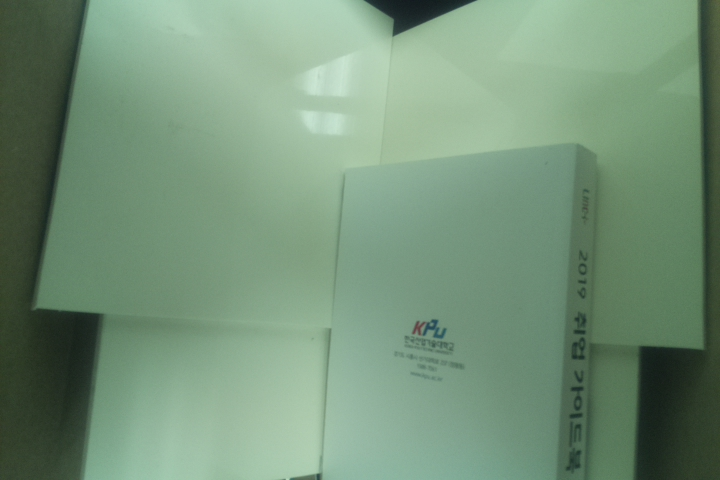book: (311, 142, 602, 480)
